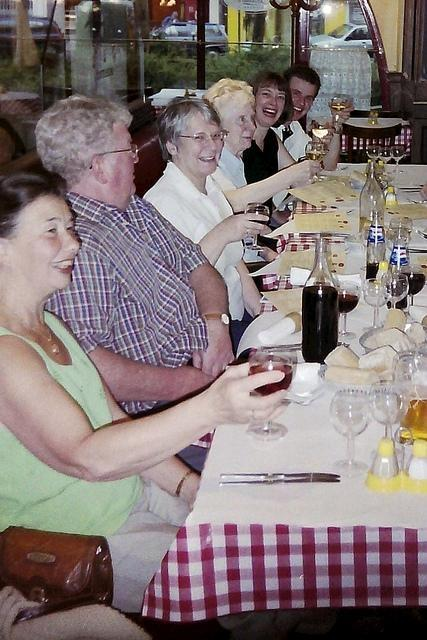car: (0, 10, 65, 68), (147, 18, 232, 62), (308, 21, 374, 48)
